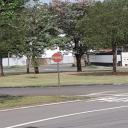Pare: (51, 52, 63, 63)
